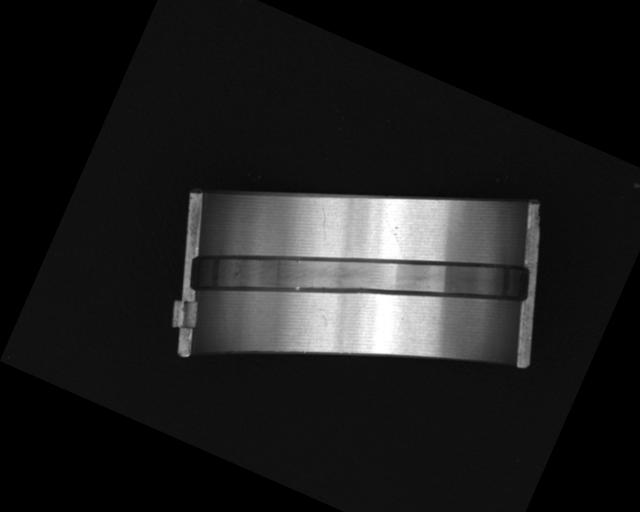gap: (182, 144, 538, 412)
nick: (309, 205, 337, 239)
